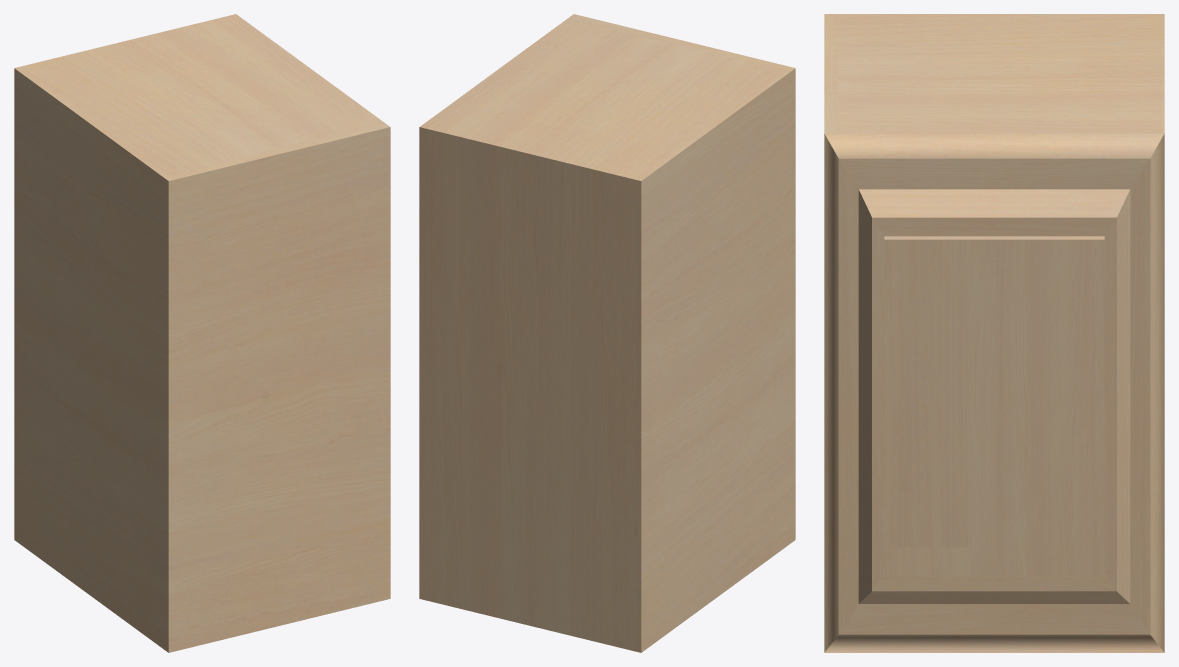
Rendered from kitchen_cabinet.fbx.
3 views of the same model, side by side, from view 1: azimuth 30°, elevation 25°; view 2: azimuth 150°, elevation 25°; view 3: azimuth 270°, elevation 25° (orthographic). The views are drawn at different scales.
Parts seen in each view (by area): view 1: pCube6; view 2: pCube6; view 3: pCube6.
Part boxes in pixels (<box>): pCube6: <box>14,14,390,652</box>; pCube6: <box>419,14,795,652</box>; pCube6: <box>824,14,1164,652</box>.
Bounding box in the file's own units: 2.14 × 3.87 × 2.3.
